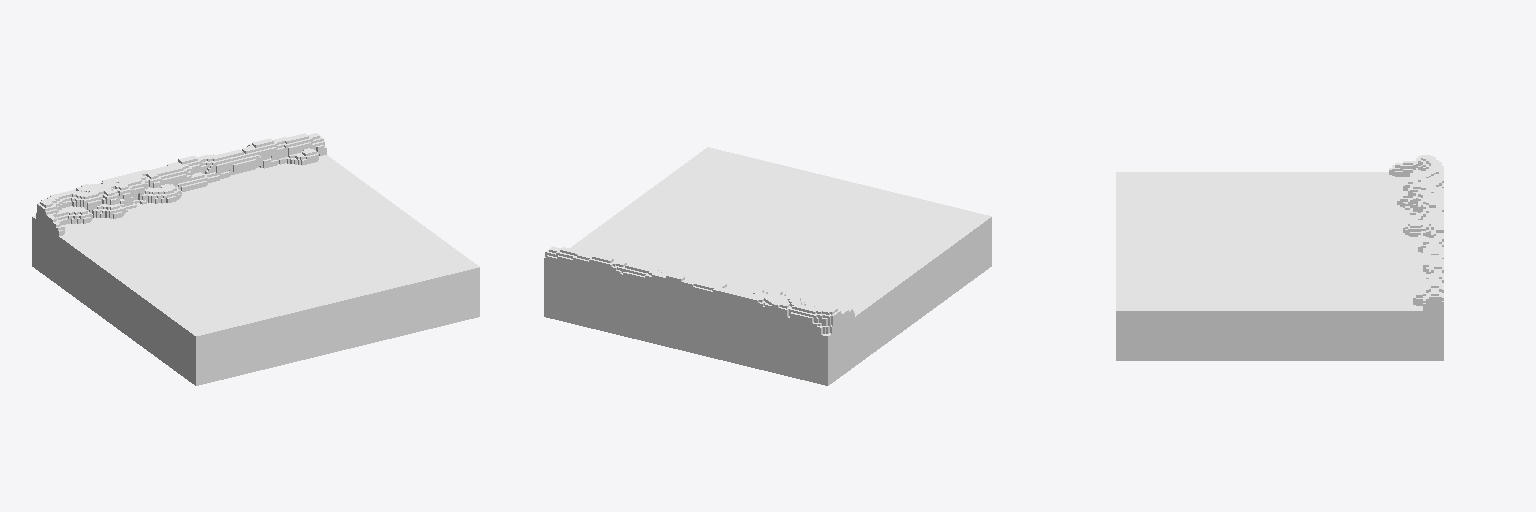
The model's file is Map_Field-2.obj.
3 renders of one model, left to right at view 1: azimuth 30°, elevation 25°; view 2: azimuth 150°, elevation 25°; view 3: azimuth 270°, elevation 25°, orthographic.
Visible parts, largest first — view 1: Map_Field-2; view 2: Map_Field-2; view 3: Map_Field-2.
Boxes of the visible parts, x1=… form: Map_Field-2: x1=32, y1=133, x2=479, y2=385; Map_Field-2: x1=544, y1=147, x2=991, y2=385; Map_Field-2: x1=1116, y1=155, x2=1443, y2=360.
Bounding box in the file's own units: 126 × 30 × 126.